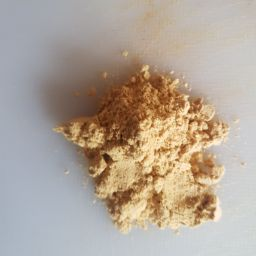Ginger powder: (104, 48, 234, 229), (42, 99, 205, 225), (128, 68, 235, 250)
